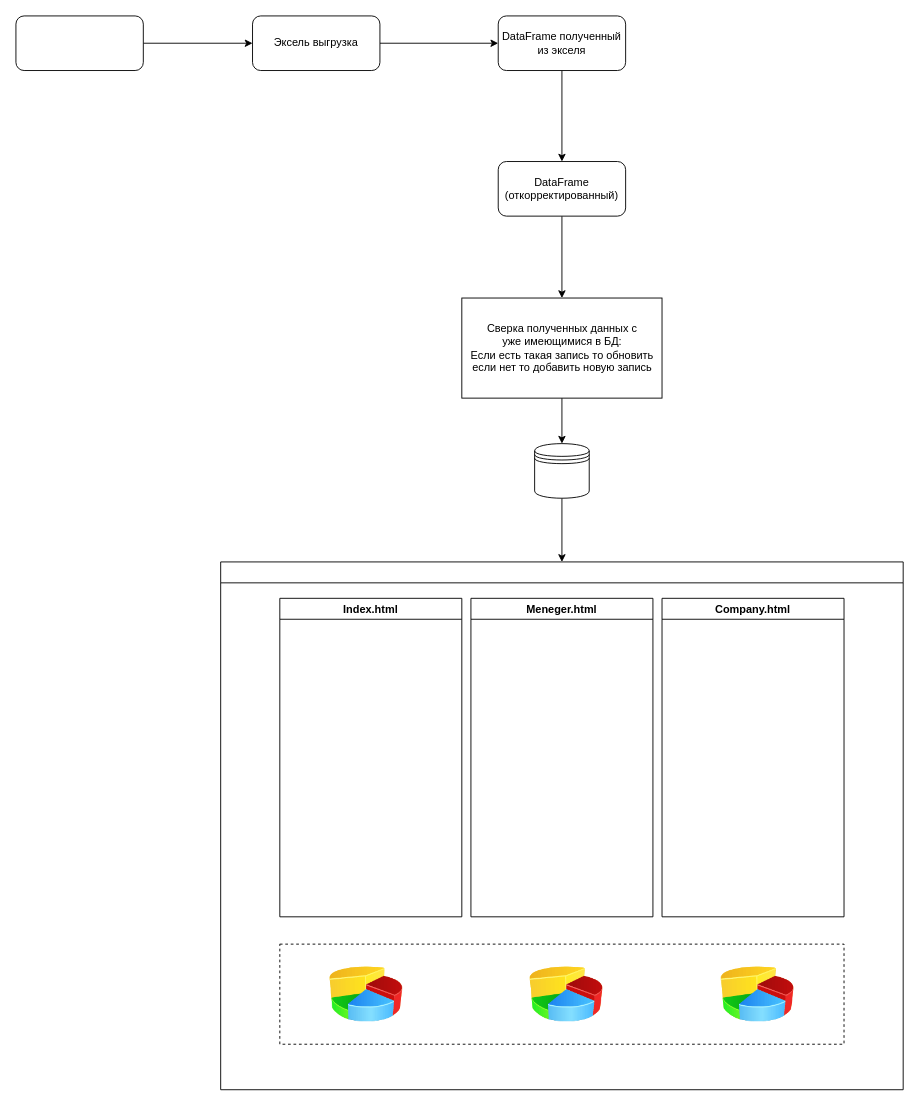
This 919x1106 diagram has some shape labels left out. The box of each missing label's shape, as (x1, y1, x2, y2) in pixels:
1С: (15, 15, 143, 71)
FLASK: (220, 561, 903, 1090)
Postgre SQL: (534, 443, 589, 498)
